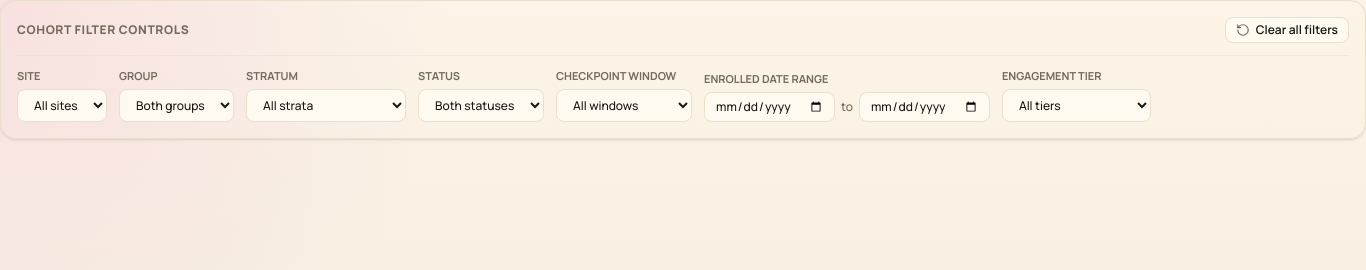
FilterPanel component tests › validates start date > end date and displays inline error
The width and height of the screenshot is (1366, 270).
Type "2025-06-01" into the 1st date field at (770, 106), box [704,92,835,122]
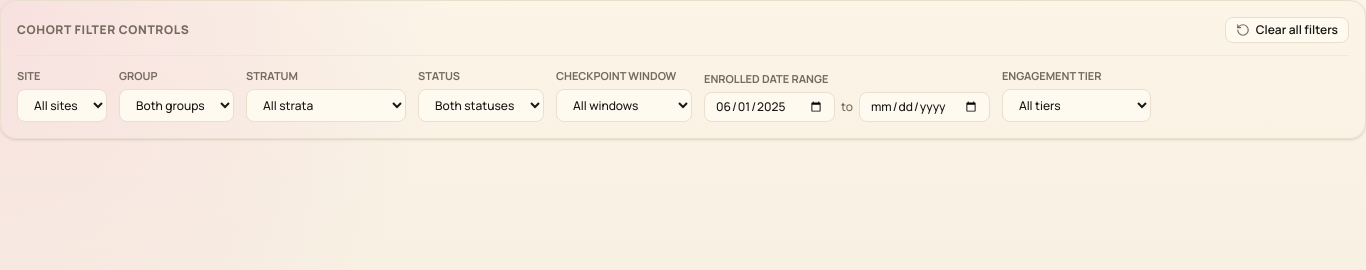
Type "2025-05-01" into the 2nd date field at (924, 106), box [859,92,990,122]
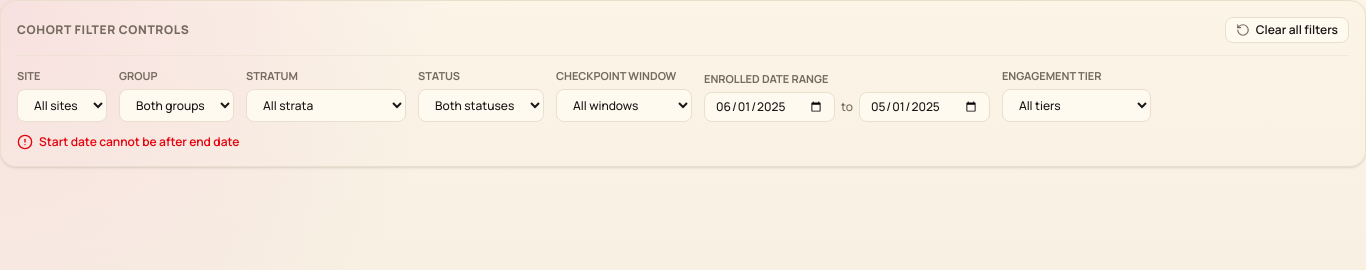
Result: the text "Start date cannot be after end date" is shown at [39,134,239,150]
